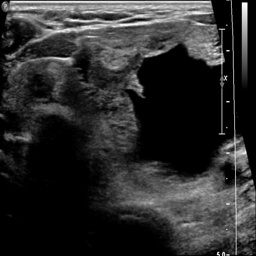mass: (125, 43, 233, 180)
